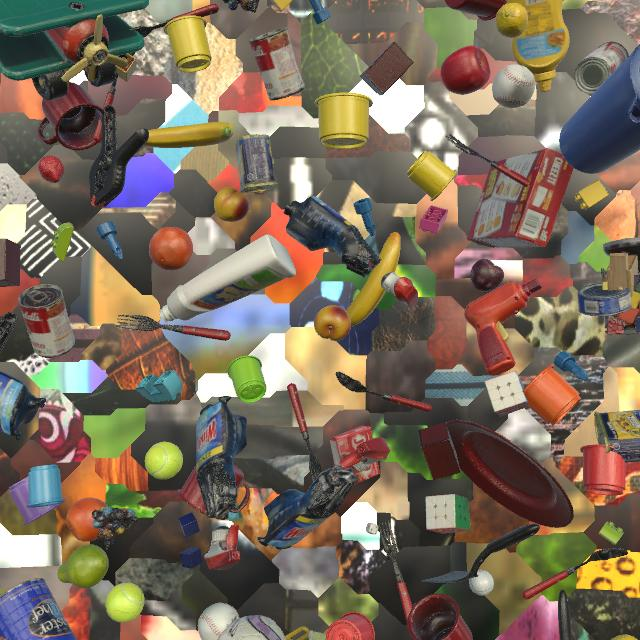ycb_002_master_chef_can: (0, 578, 77, 640)
ycb_003_cracker_box: (467, 148, 574, 248)
ycb_004_sugar_box: (0, 588, 9, 596)
ycb_005_tomato_soup_can: (18, 284, 75, 358), (249, 27, 305, 101), (574, 42, 629, 94)
ycb_006_mustard_bottle: (506, 0, 569, 92)
ycb_007_tuna_fish_can: (577, 283, 632, 316)
ycb_009_gelatin_box: (329, 425, 380, 485)
ycb_010_potted_meat_can: (235, 134, 278, 193), (594, 410, 640, 463)
ycb_011_banana: (346, 232, 401, 327), (144, 122, 234, 148)
ycb_012_strawberry: (38, 155, 64, 183)
ycb_013_apple: (440, 46, 490, 95)
ycb_014_lemon: (496, 3, 528, 38), (611, 635, 637, 640)
ycb_015_peach: (314, 305, 351, 341), (214, 187, 249, 222)
ycb_016_pear: (57, 544, 109, 588)
ycb_017_orange: (149, 227, 193, 271), (66, 497, 108, 542)
ycb_018_plum: (470, 259, 504, 291)
